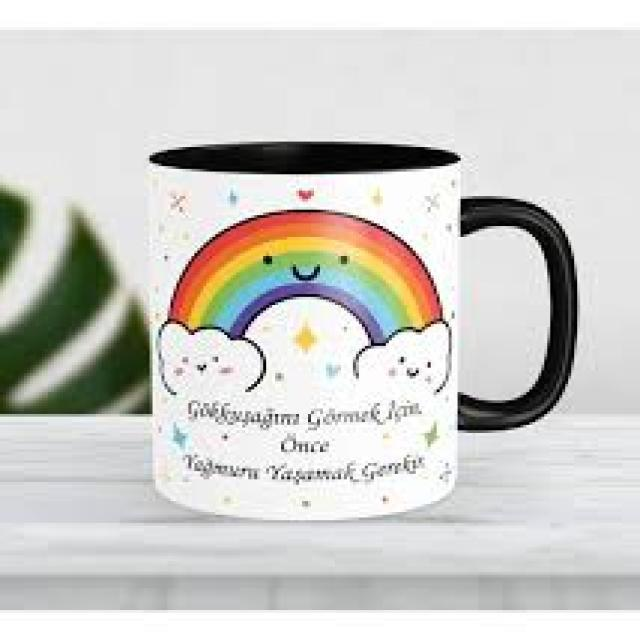taza: (150, 138, 578, 524)
